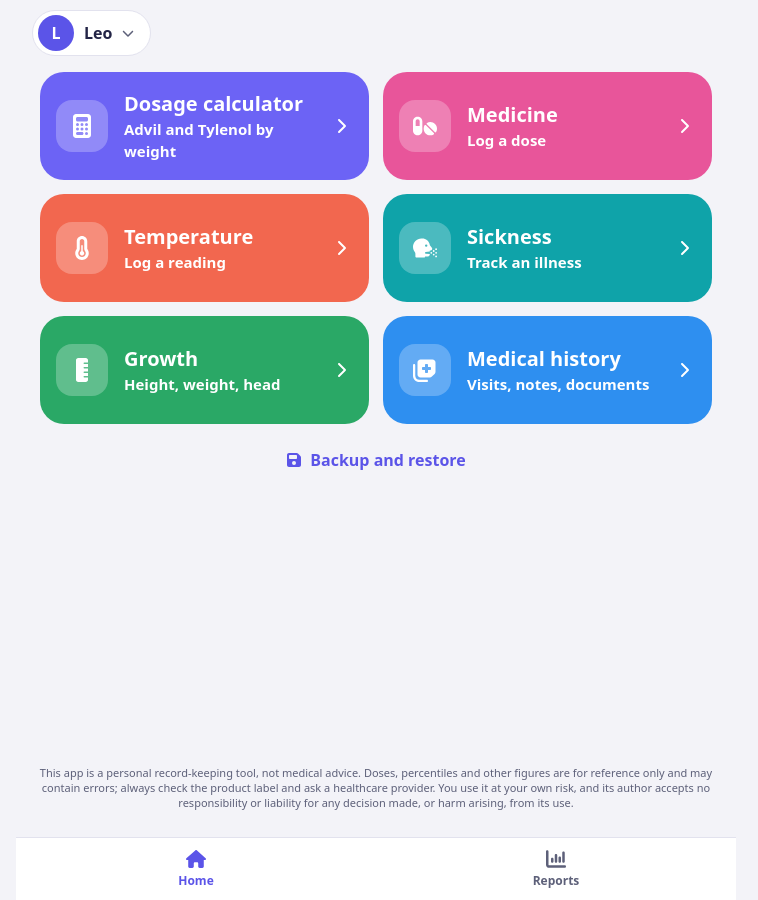
Test: App › edits an entry from Reports and returns to Reports
Click the button "Reports".
click(556, 869)  # box [376,838,736,899]
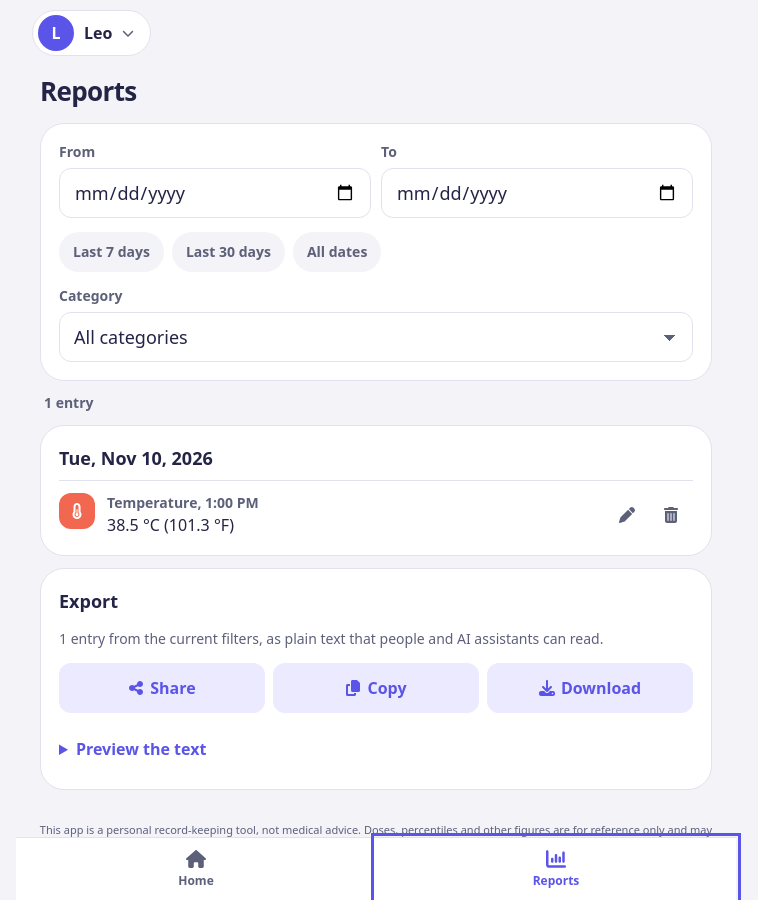
Click the button named "Edit entry".
click(627, 515)  # box [605,493,649,537]
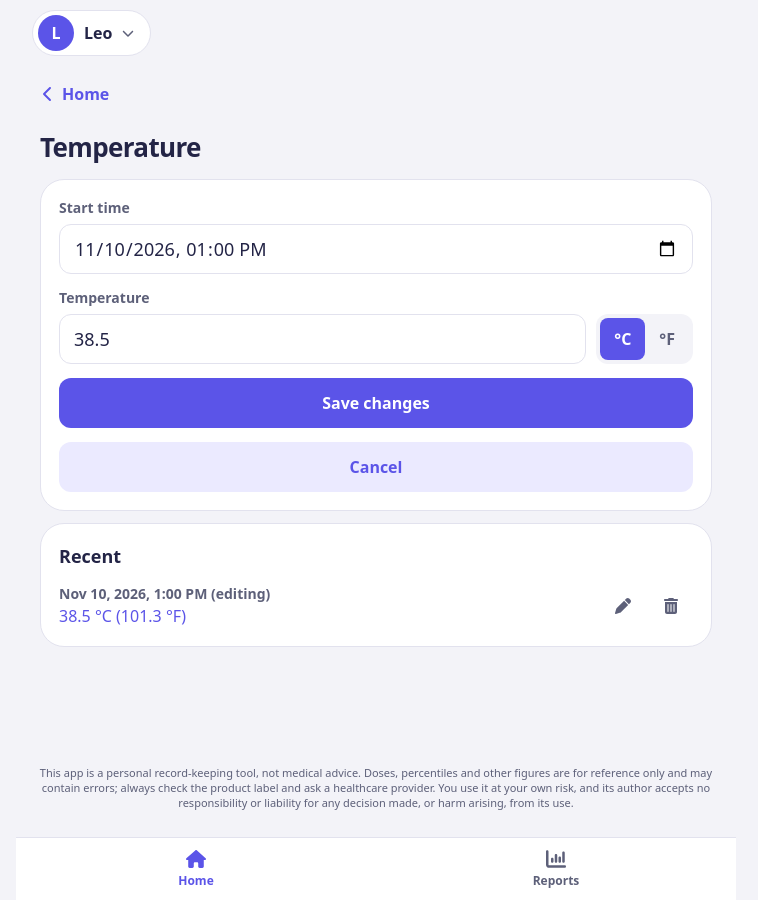
expect the form named "Edit temperature" is shown: met, box [40,179,712,511]
expect the number field labelled "Temperature" holds "38.5": met
Replace the text in the number field labelled "Temperature" with "39" at (323, 339), box [59,314,586,364]
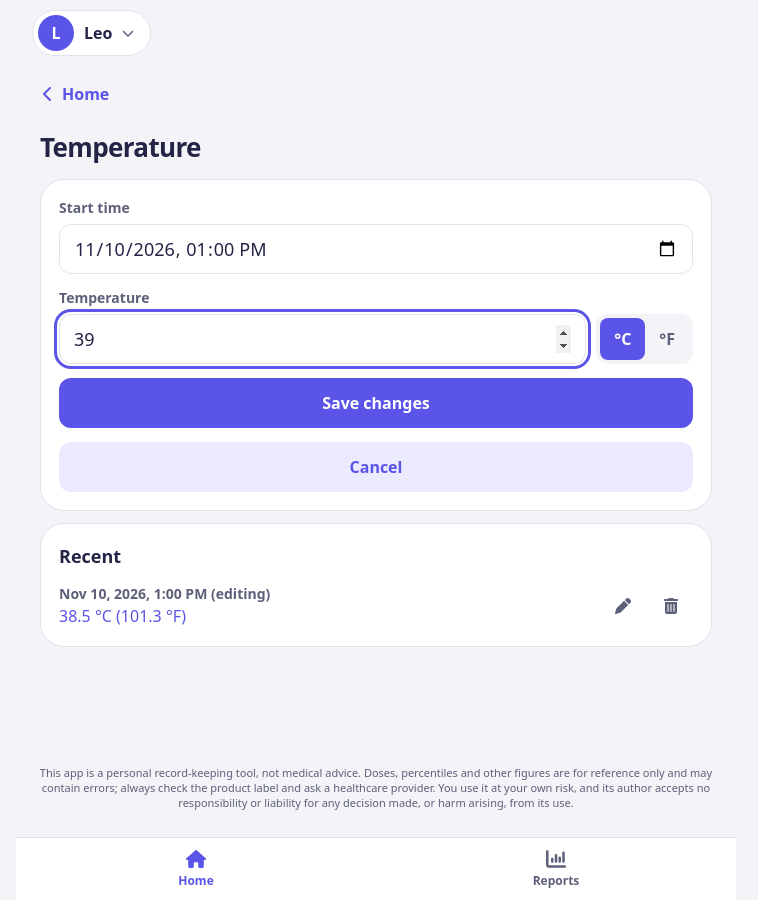
Click the button "Save changes".
click(376, 403)  # box [59,378,693,428]
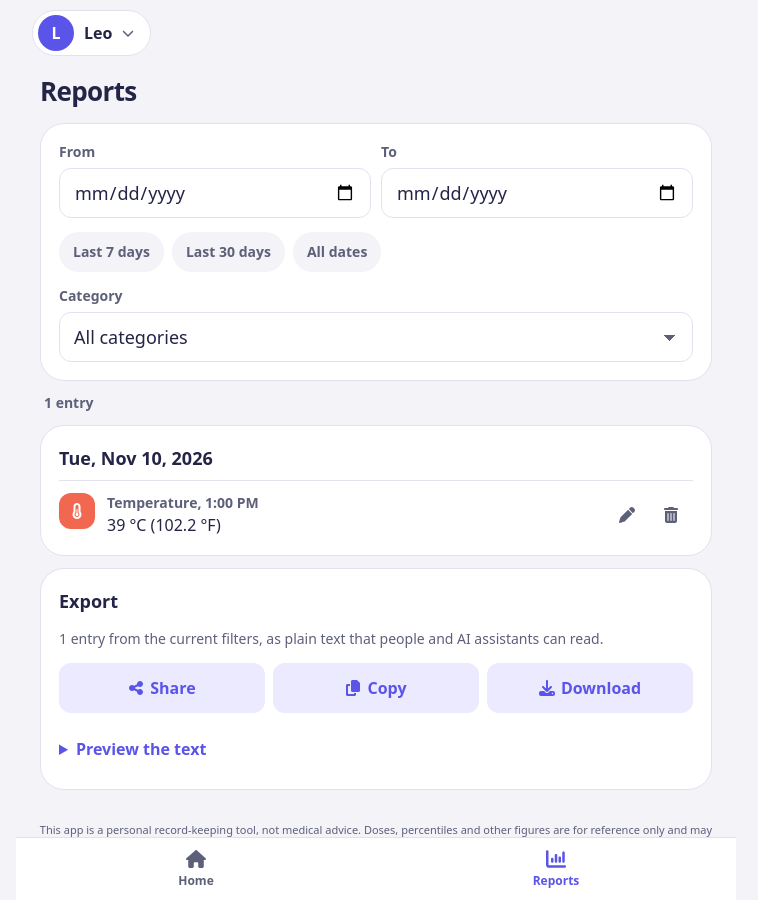
expect the heading "Reports" is shown: met, box [40,73,136,109]
expect the text "39 °C (102.2 °F)" is shown: met, box [107,514,221,536]
